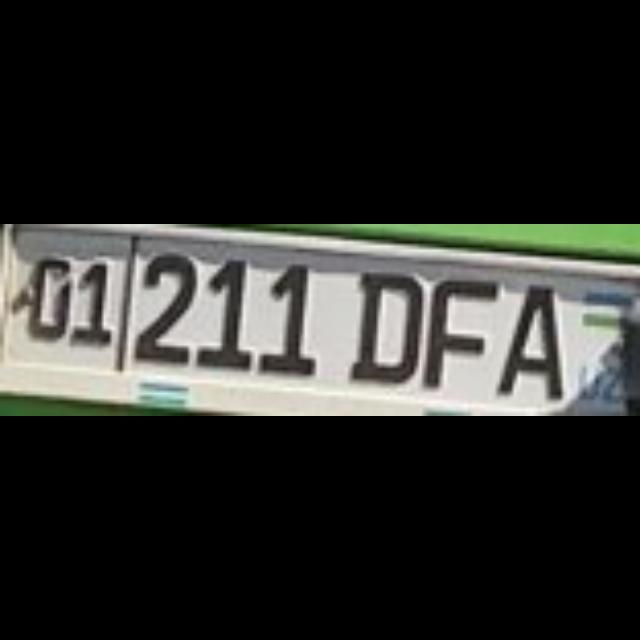0: (20, 253, 61, 339)
1: (254, 256, 312, 372), (192, 252, 245, 368), (66, 261, 106, 343)
2: (127, 248, 189, 359)
A: (492, 282, 558, 396)
D: (345, 264, 419, 380)
F: (418, 274, 492, 384)
